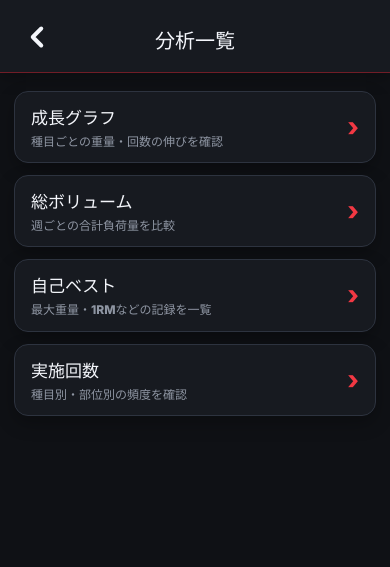
AnalysisScreen › 詳細ページのヘッダに「実施回数」を表示する
The image size is (390, 567).
Click the button "実施回数 種目別・部位別の頻度を確認": (65,371) [14,344,376,416]
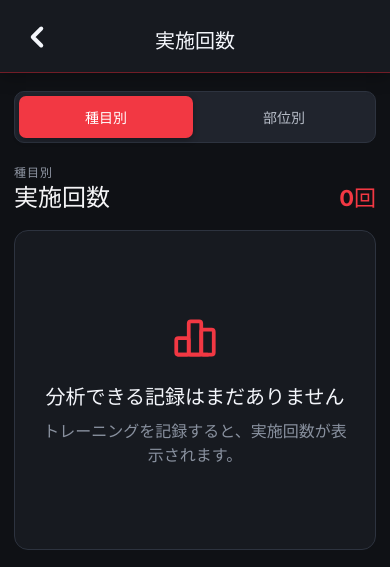
Result: the text "実施回数" is shown at [155,28,235,52]
